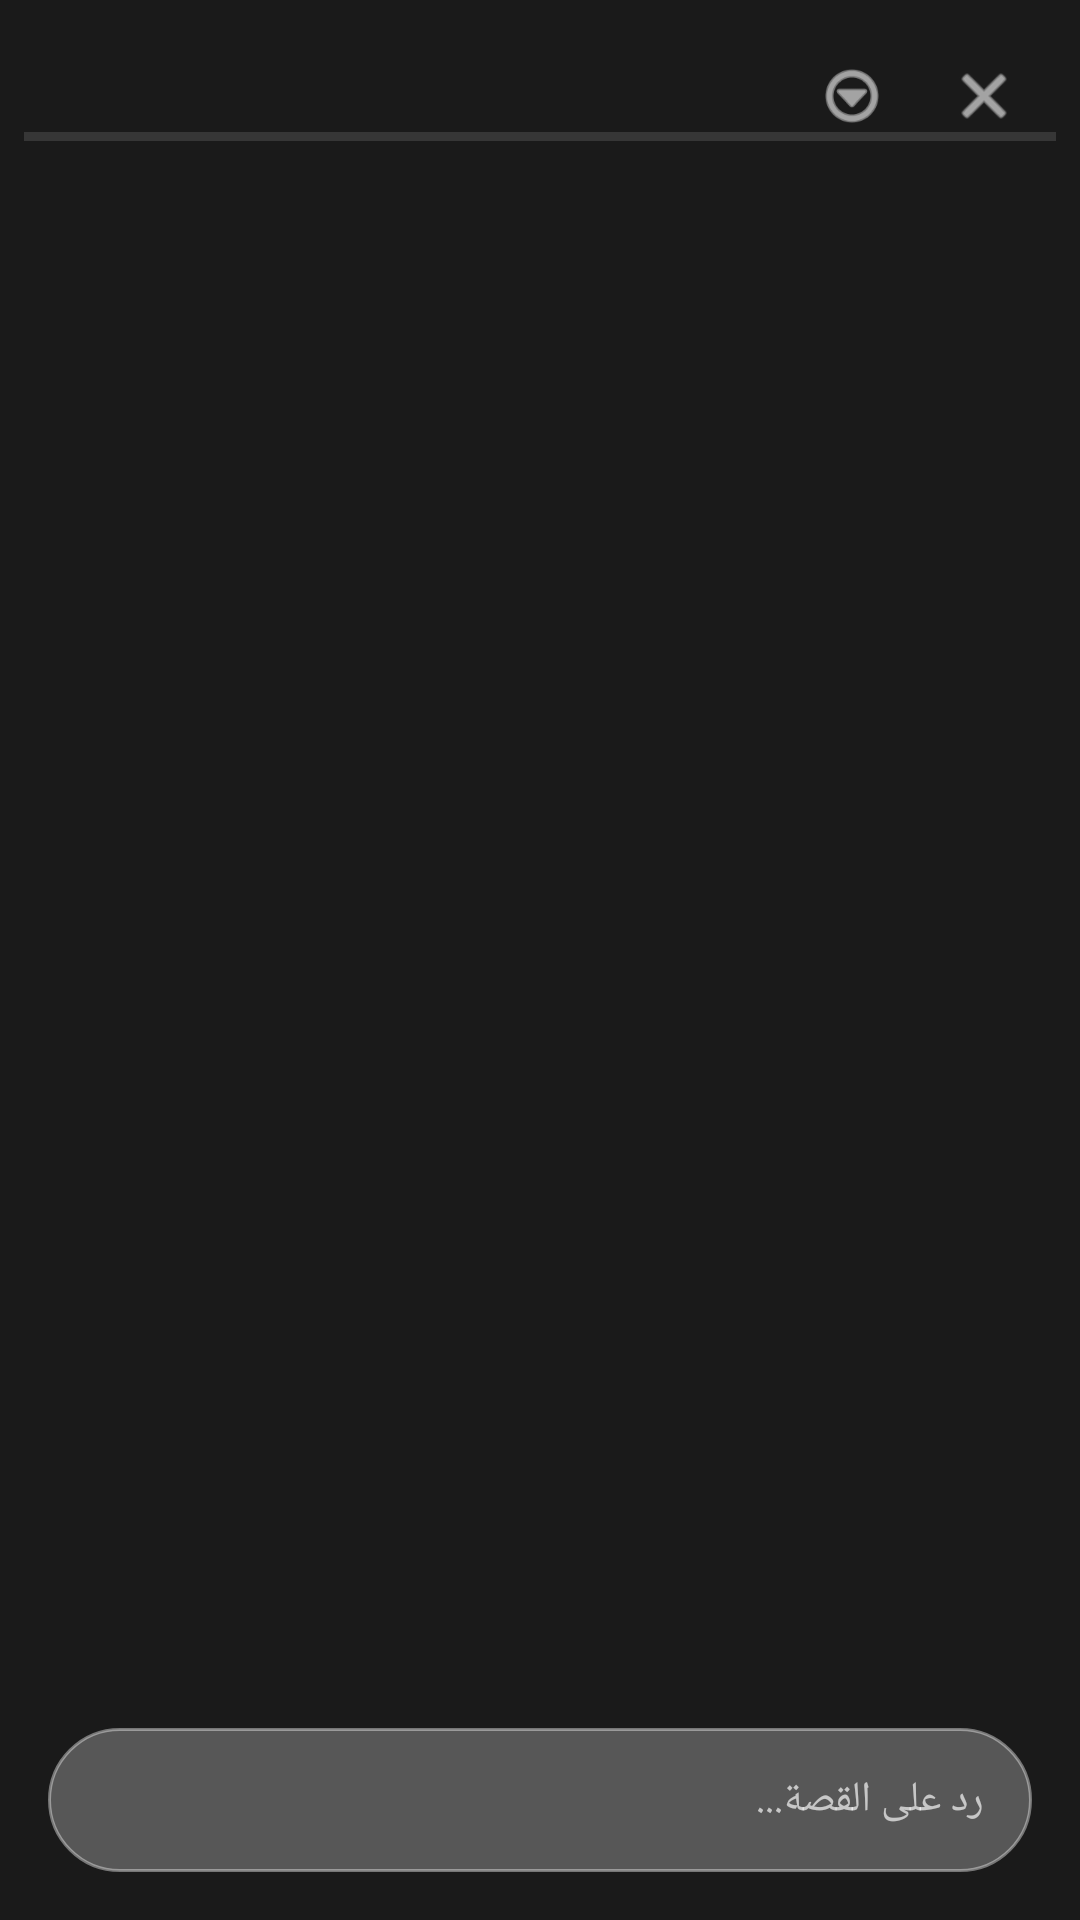

Locate icon controls on the screen. Image size 1080x1920, boxes as bbox=[x1, y1, x2, y2].
close clear cancel: bbox=[924, 73, 1044, 141]
more: bbox=[825, 69, 879, 123]
